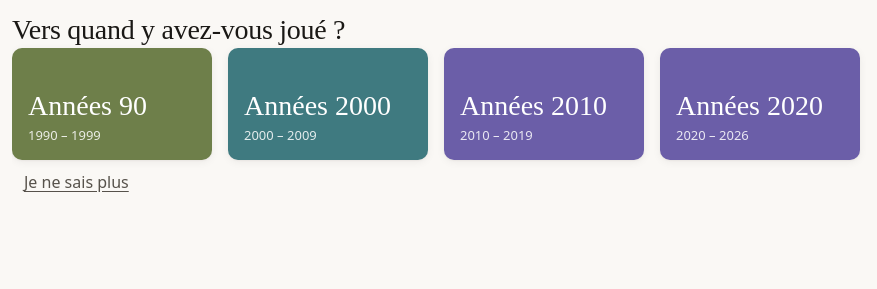
Test case: ChoixPeriode — des cartes de décennie, pas un curseur (E01) › ne décide RIEN au clic sur une décennie
Click the button "Années 90 1990 – 1999".
click(112, 104)  # box [12,48,212,160]
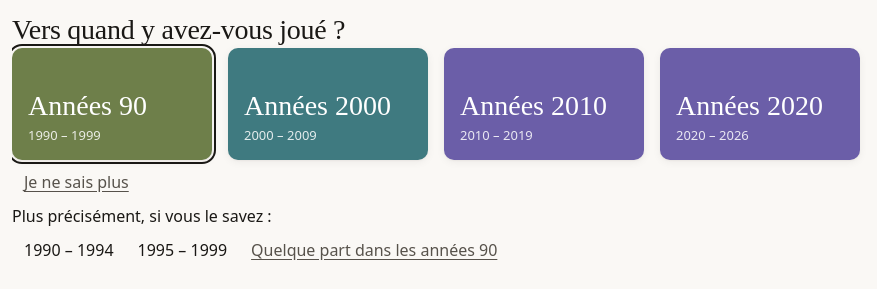
Expected: the element with test id "affinage" is shown, [12,205,509,272]
